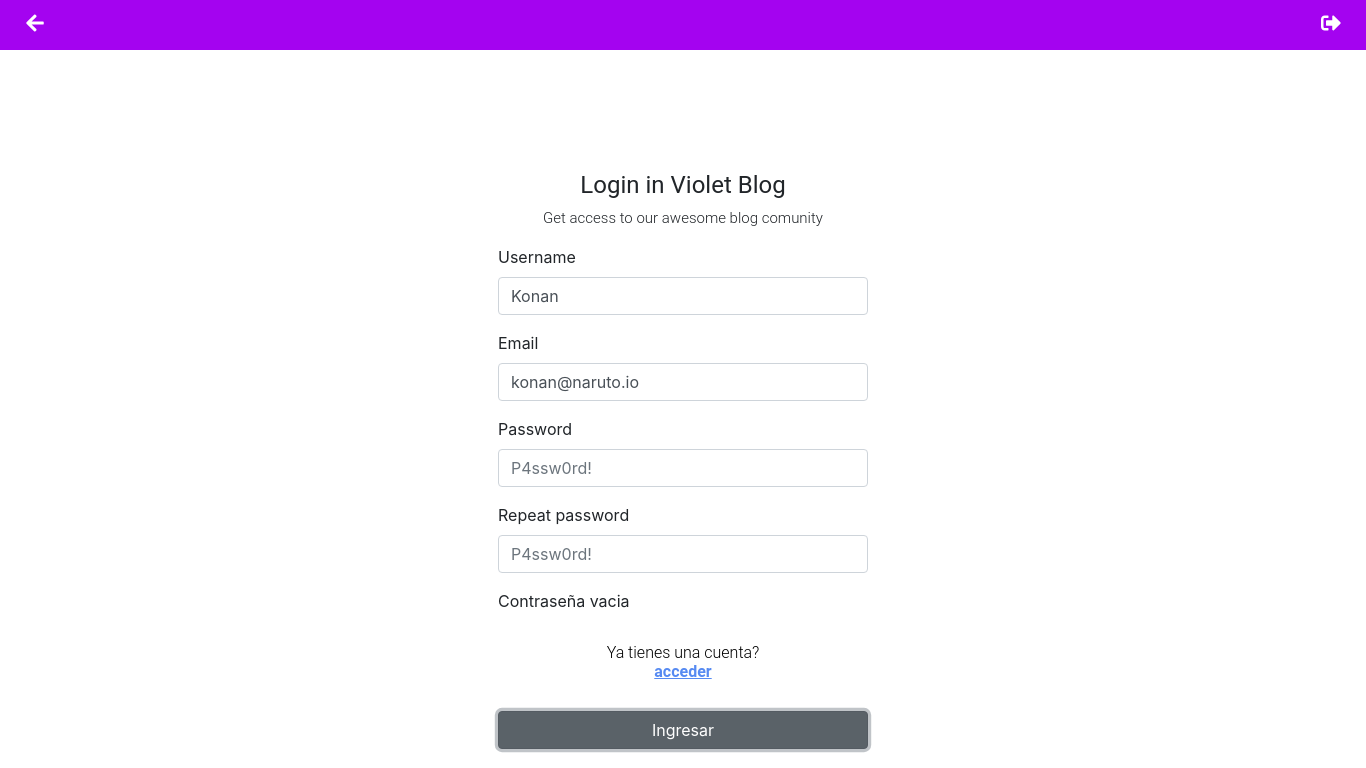
Test: Register › Password not match
Type "123Konan!" into the password field with id "current-password".
click(683, 468); type("123Konan!")  # box [498,449,868,487]
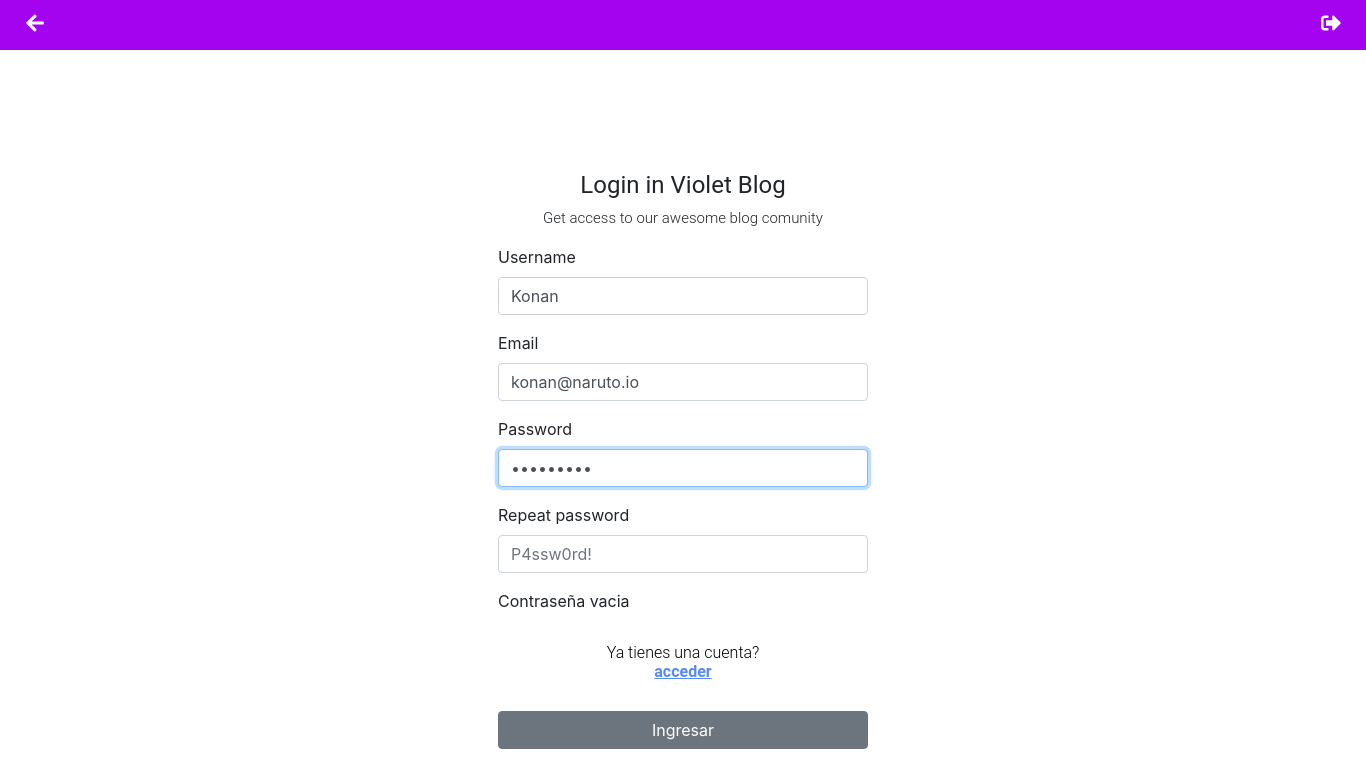
Click the button "Ingresar".
click(683, 730)  # box [498,711,868,749]
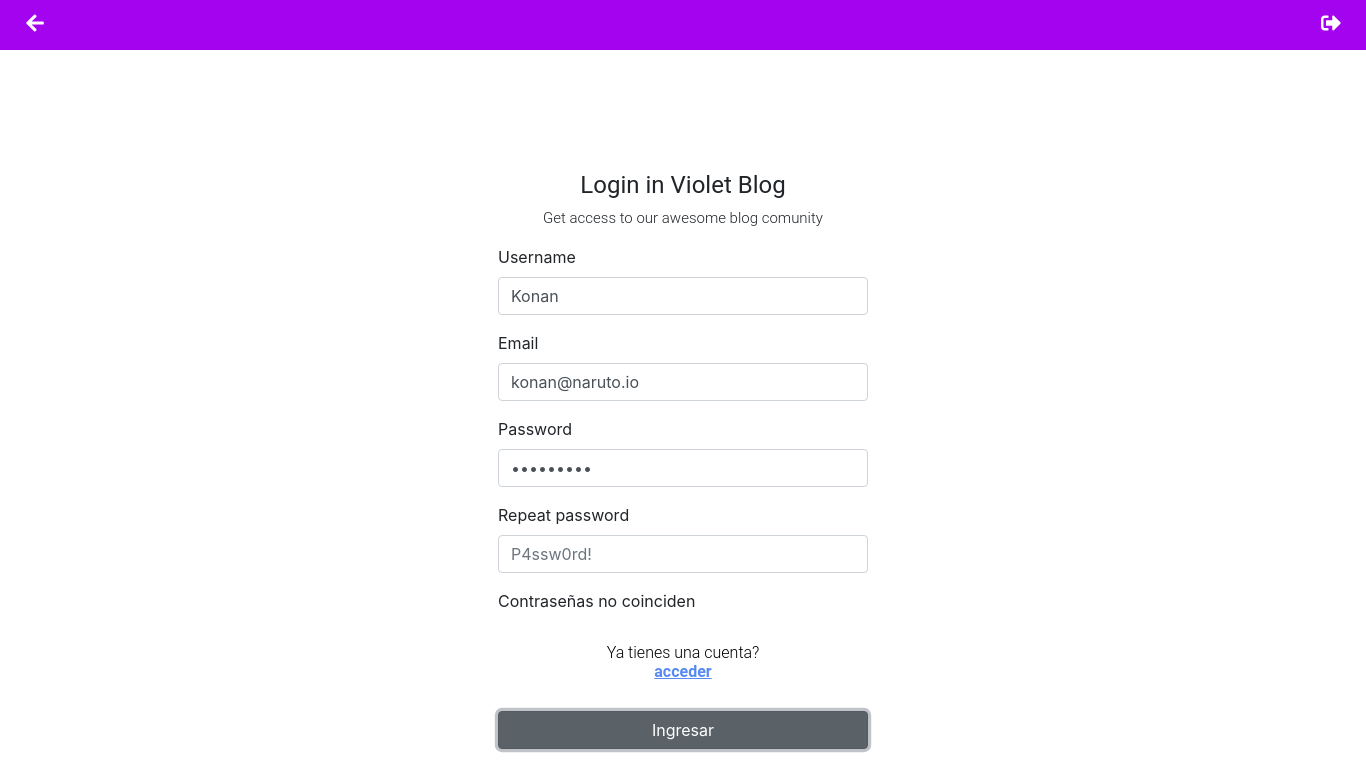
Check: the text "Contraseñas no coinciden" is shown, box [498,591,695,611]
